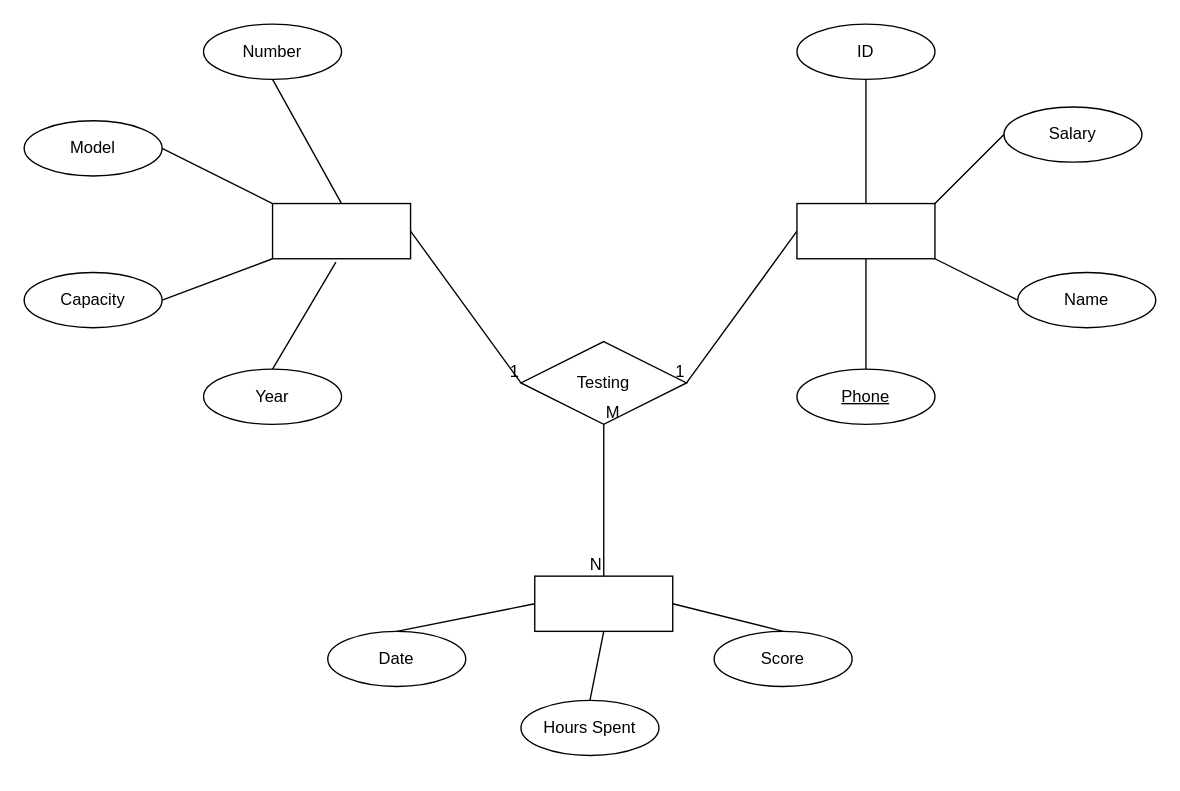
This 1180x791 diagram has some shape labels left out. The centre of each missing label's shape, as x and y in pixels:
Airplane: the point at 341,230
Technician: the point at 865,230
Test: the point at 603,603
